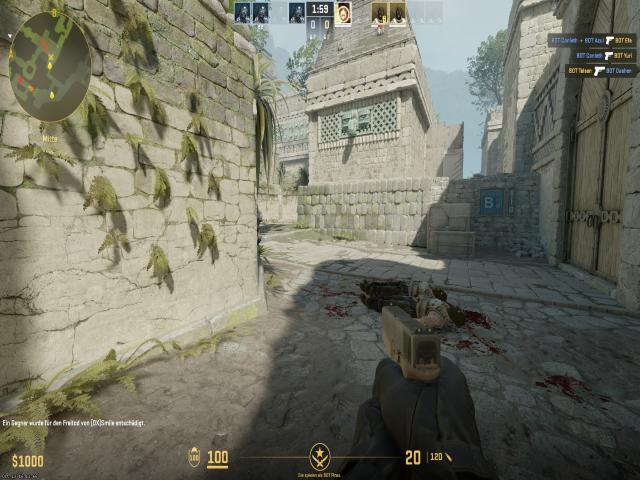Dead: (358, 293, 464, 327), (368, 276, 448, 299)
